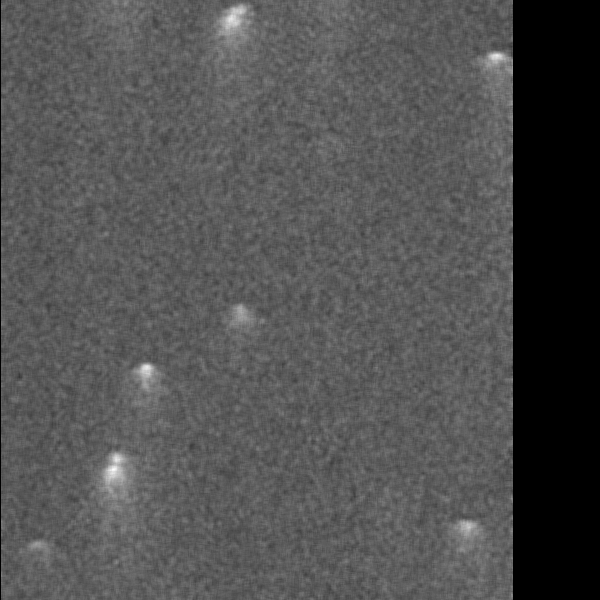spark: (98, 447, 130, 533), (213, 2, 250, 75), (222, 295, 250, 377), (133, 355, 156, 425), (480, 46, 510, 95), (450, 517, 482, 561), (24, 535, 52, 563)
